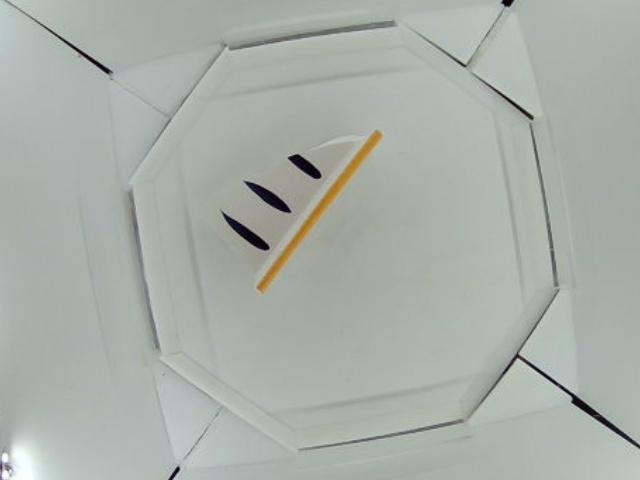China: (212, 128, 381, 295)
